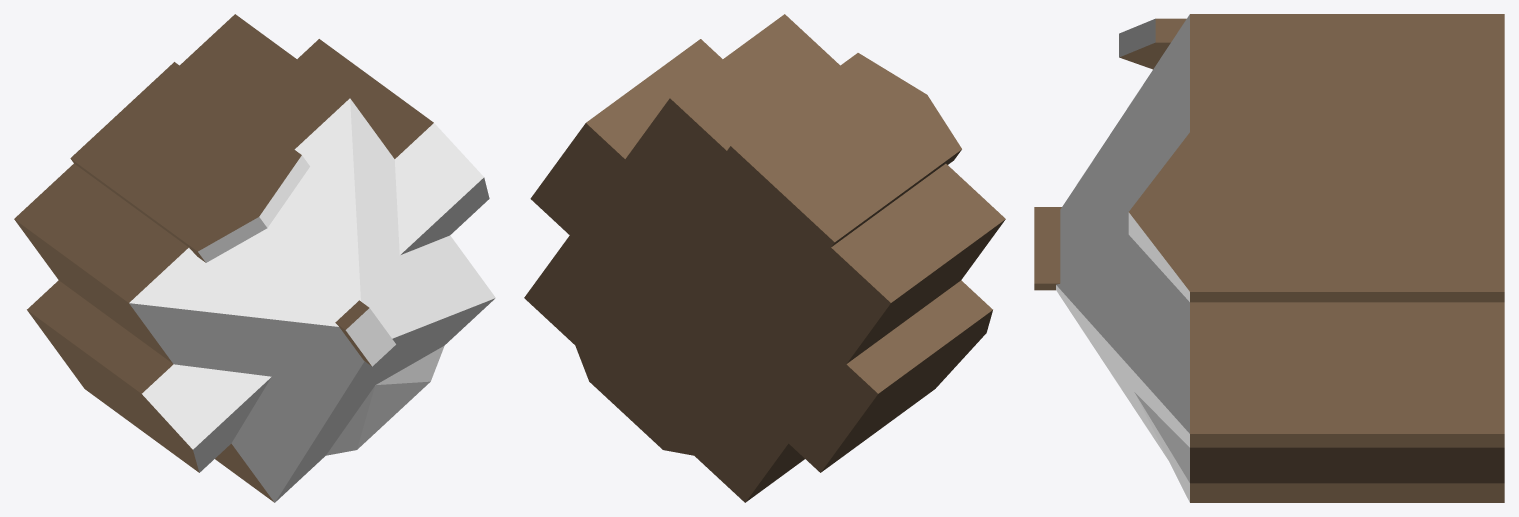
The picture shows the model from 3 angles, left to right: view 1: azimuth 30°, elevation 25°; view 2: azimuth 150°, elevation 25°; view 3: azimuth 270°, elevation 25°; orthographic projection. The views are drawn at different scales.
Visible parts, largest first — view 1: City_2316934; view 2: City_2316934; view 3: City_2316934.
Boxes of the visible parts, x1,y1,x2,y2 form: City_2316934: [14, 14, 495, 502]; City_2316934: [524, 14, 1005, 502]; City_2316934: [1034, 14, 1504, 502].
Size of the model in its own units: 1224 by 1232 by 992.
